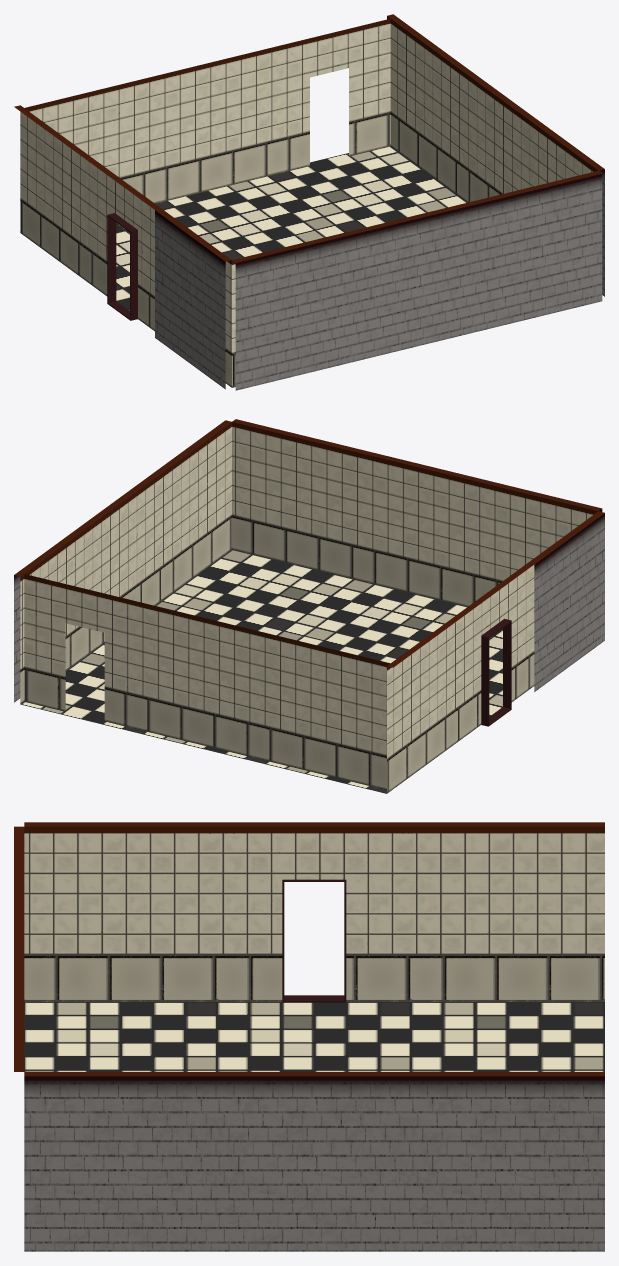
Rendered from kitchen.fbx.
3 views of the same model, one above another, from view 1: azimuth 30°, elevation 25°; view 2: azimuth 150°, elevation 25°; view 3: azimuth 270°, elevation 25° (orthographic). The views are drawn at different scales.
Visible parts, largest first — view 1: kitchen; view 2: kitchen; view 3: kitchen.
Boxes of the visible parts, bbox=[...] form: kitchen: bbox=[14, 14, 604, 390]; kitchen: bbox=[14, 419, 604, 793]; kitchen: bbox=[14, 822, 604, 1251].
Size of the model in its own units: 623 by 200 by 611.
